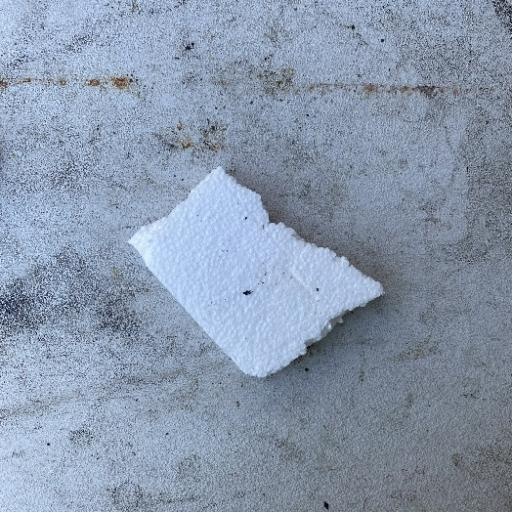Plastic: (125, 164, 386, 380)
